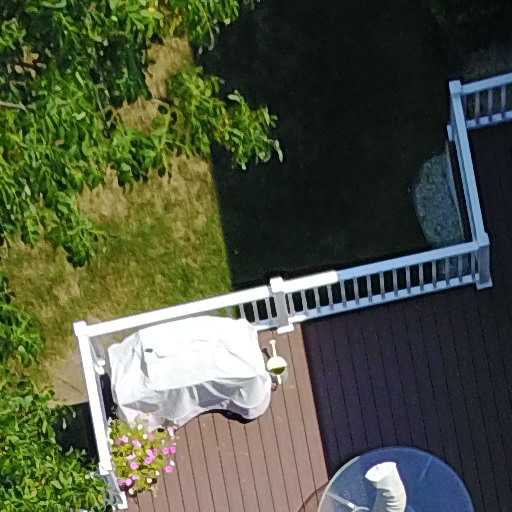watering can: (258, 337, 298, 391)
